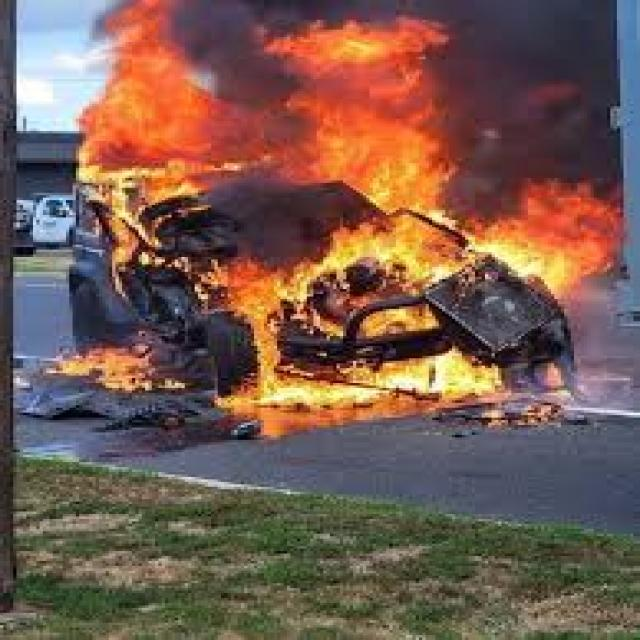fire: (36, 2, 627, 438)
